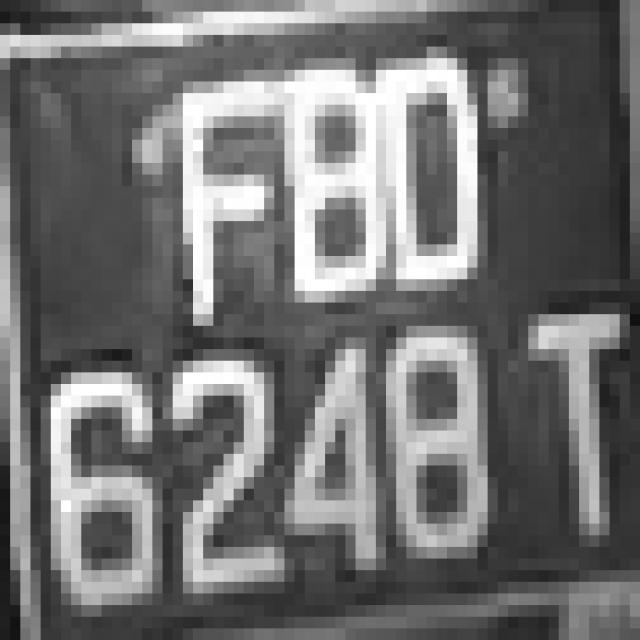2: (142, 337, 305, 617)
4: (254, 326, 396, 605)
6: (20, 314, 173, 628)
8: (376, 291, 498, 582)
B: (244, 58, 386, 303)
F: (143, 58, 274, 338)
O: (366, 35, 498, 302)
T: (8, 5, 10, 11)
